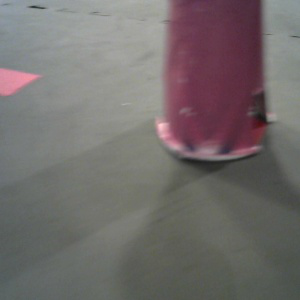right: (153, 1, 281, 163)
